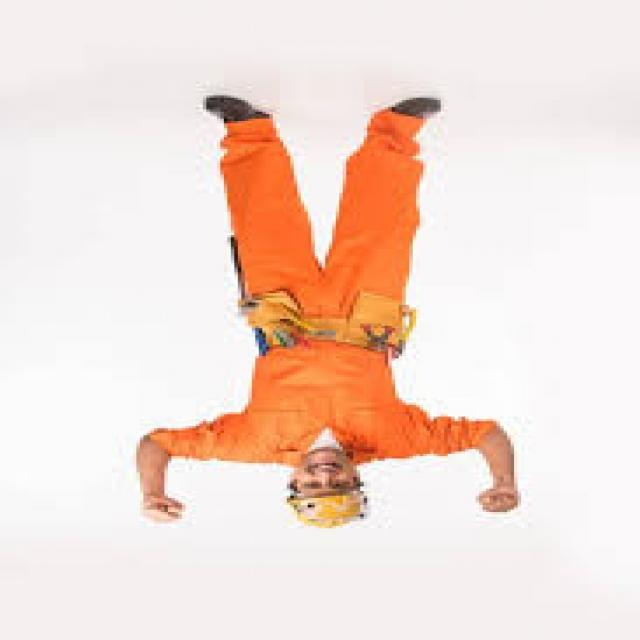safetyhelmet: (282, 450, 374, 533)
